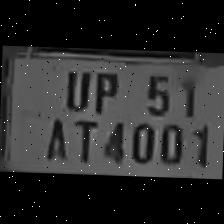0: (125, 114, 157, 162), (153, 118, 185, 164)
1: (183, 118, 212, 168), (172, 70, 201, 117)
4: (98, 114, 128, 164)
5: (139, 68, 172, 117)
A: (38, 113, 68, 162)
P: (88, 66, 120, 113)
T: (67, 114, 99, 162)
U: (57, 65, 92, 110)
